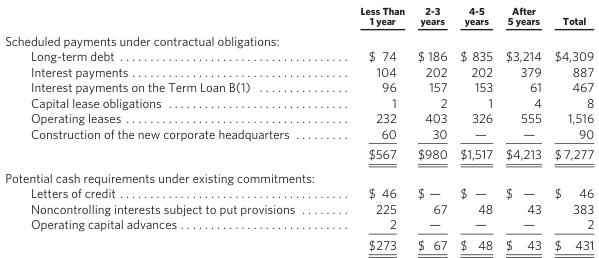table: (4, 3, 593, 251)
table column: (4, 3, 326, 251), (326, 3, 410, 251), (498, 3, 547, 251), (547, 3, 593, 251), (453, 3, 498, 251), (410, 3, 453, 251)
table column header: (4, 3, 593, 29)
table projected row header: (4, 165, 593, 184), (4, 29, 593, 47)
table row: (4, 3, 593, 29), (4, 143, 593, 165), (4, 165, 593, 184), (4, 29, 593, 47), (4, 125, 593, 143), (4, 215, 593, 233), (4, 233, 593, 251), (4, 47, 593, 63), (4, 78, 593, 94), (4, 109, 593, 125), (4, 184, 593, 200), (4, 63, 593, 78), (4, 94, 593, 109), (4, 200, 593, 215)
